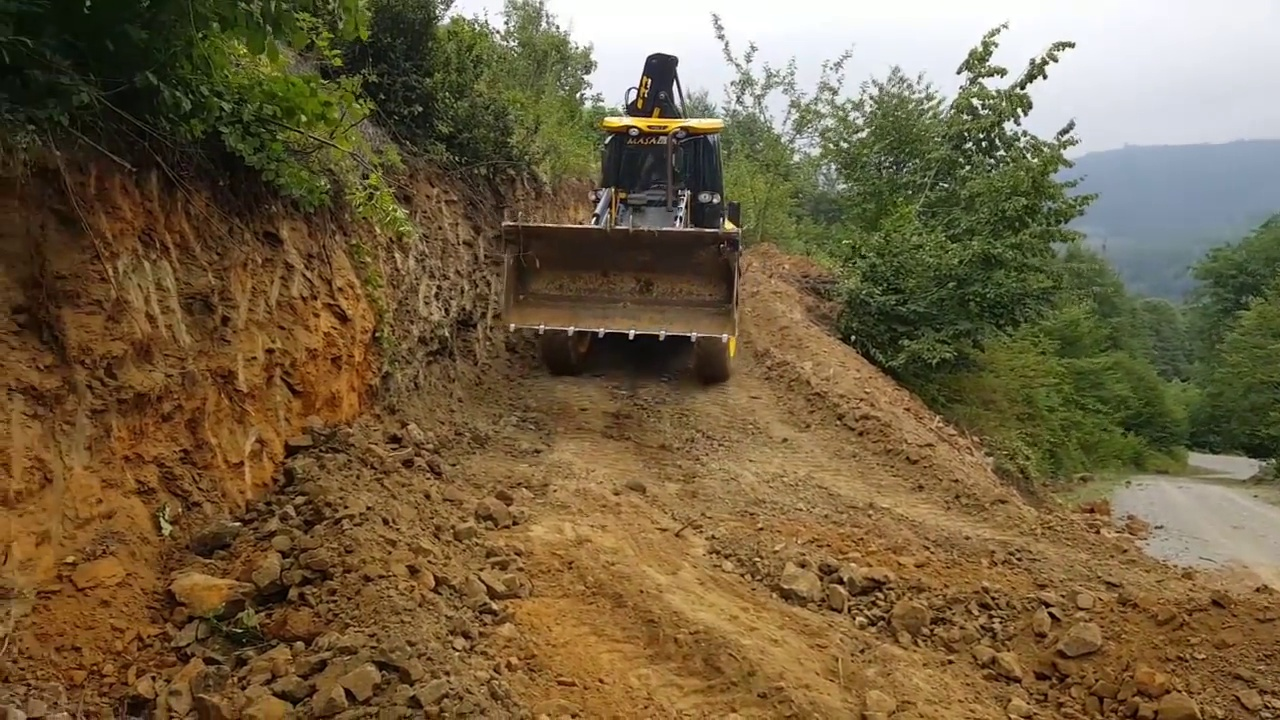wheel loader: (498, 51, 744, 385)
